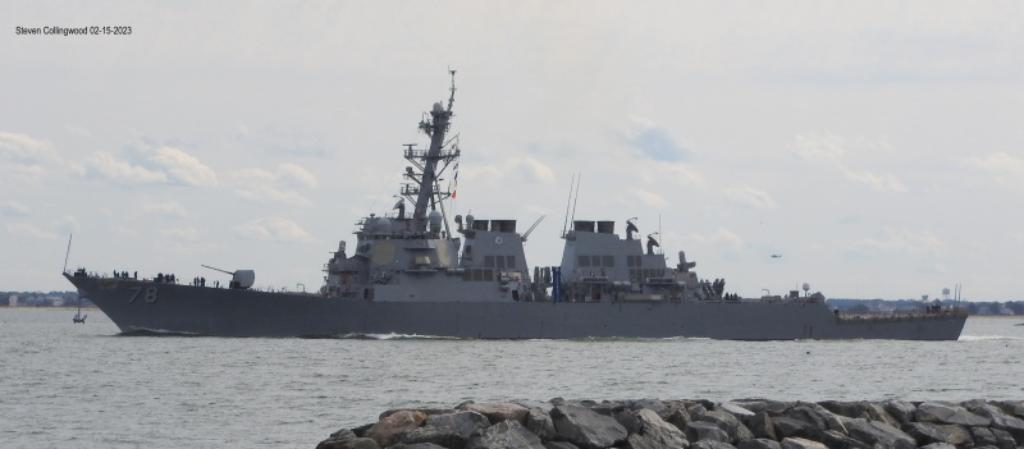Warship: (61, 68, 973, 344)
